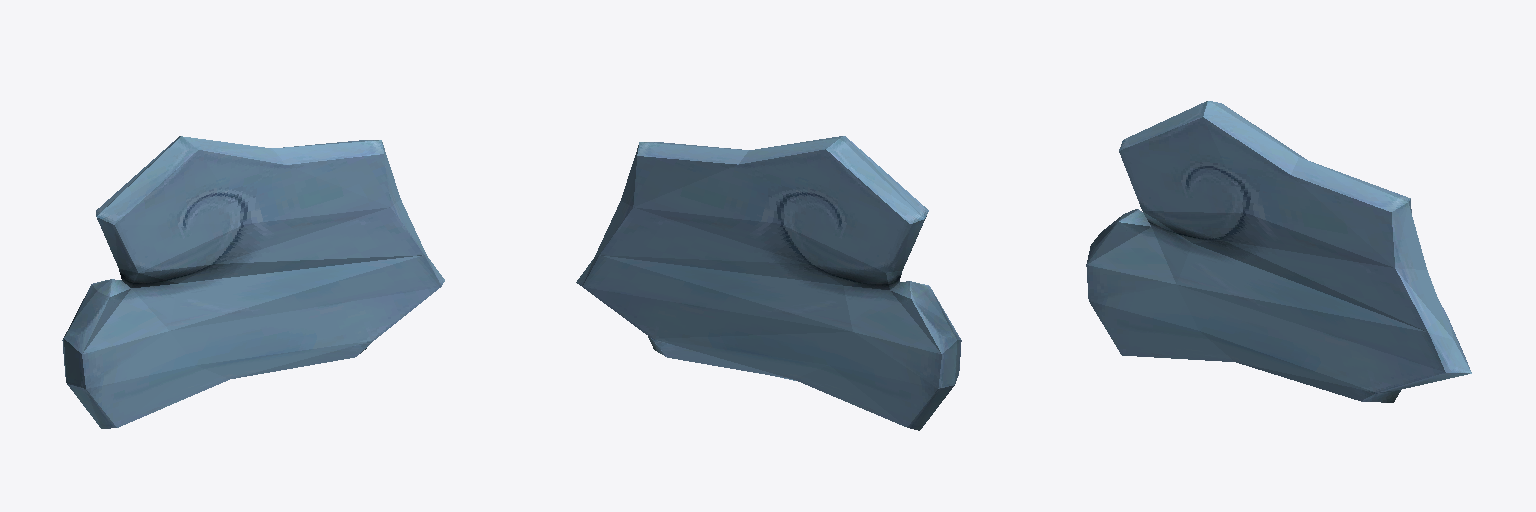
3 views of the same model, side by side, from view 1: azimuth 30°, elevation 25°; view 2: azimuth 150°, elevation 25°; view 3: azimuth 330°, elevation 25° (orthographic).
Parts seen in each view (by area): view 1: node_id31; view 2: node_id31; view 3: node_id31.
Part boxes in pixels (x1,y1,x2,y2): node_id31: (62,136,444,428); node_id31: (576,136,961,430); node_id31: (1086,101,1471,402).
Bounding box in the file's own units: 0.6671 × 0.457 × 0.0662.
1 materials, 1 textured.